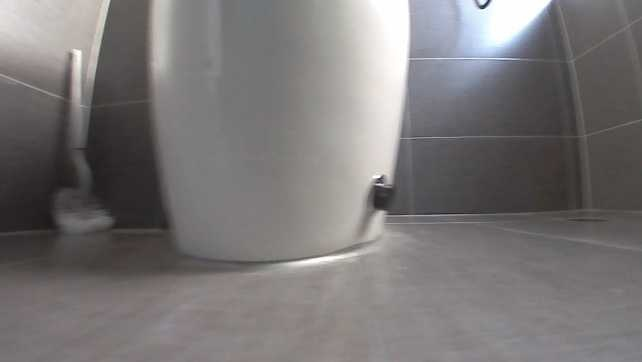toilet: (144, 0, 412, 267)
